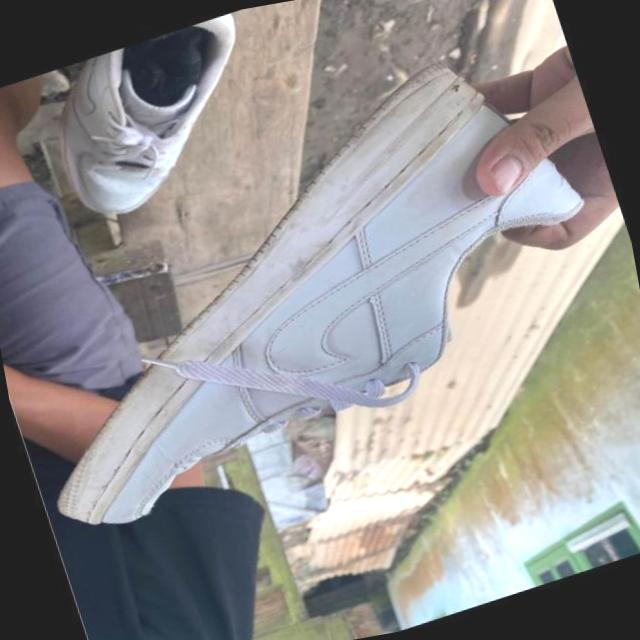nike_fake_airforce: (0, 20, 640, 555)
